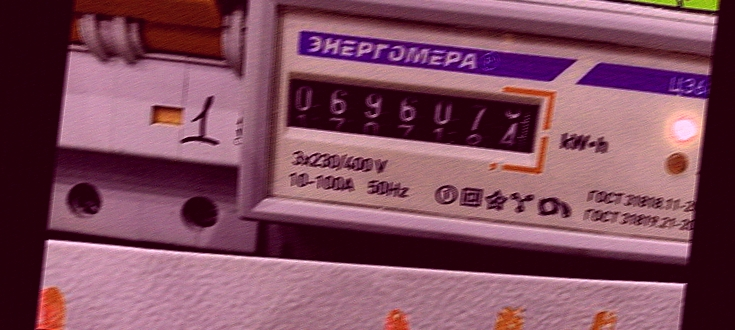0: (290, 83, 314, 115), (431, 97, 453, 129)
4: (495, 120, 518, 150)
6: (324, 86, 349, 118), (396, 94, 418, 124)
7: (465, 102, 486, 133)
9: (361, 91, 382, 122)
screen: (262, 53, 556, 176)
